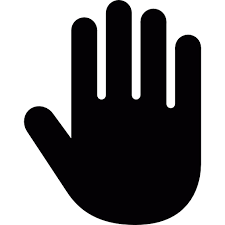palm: (52, 96, 195, 203)
